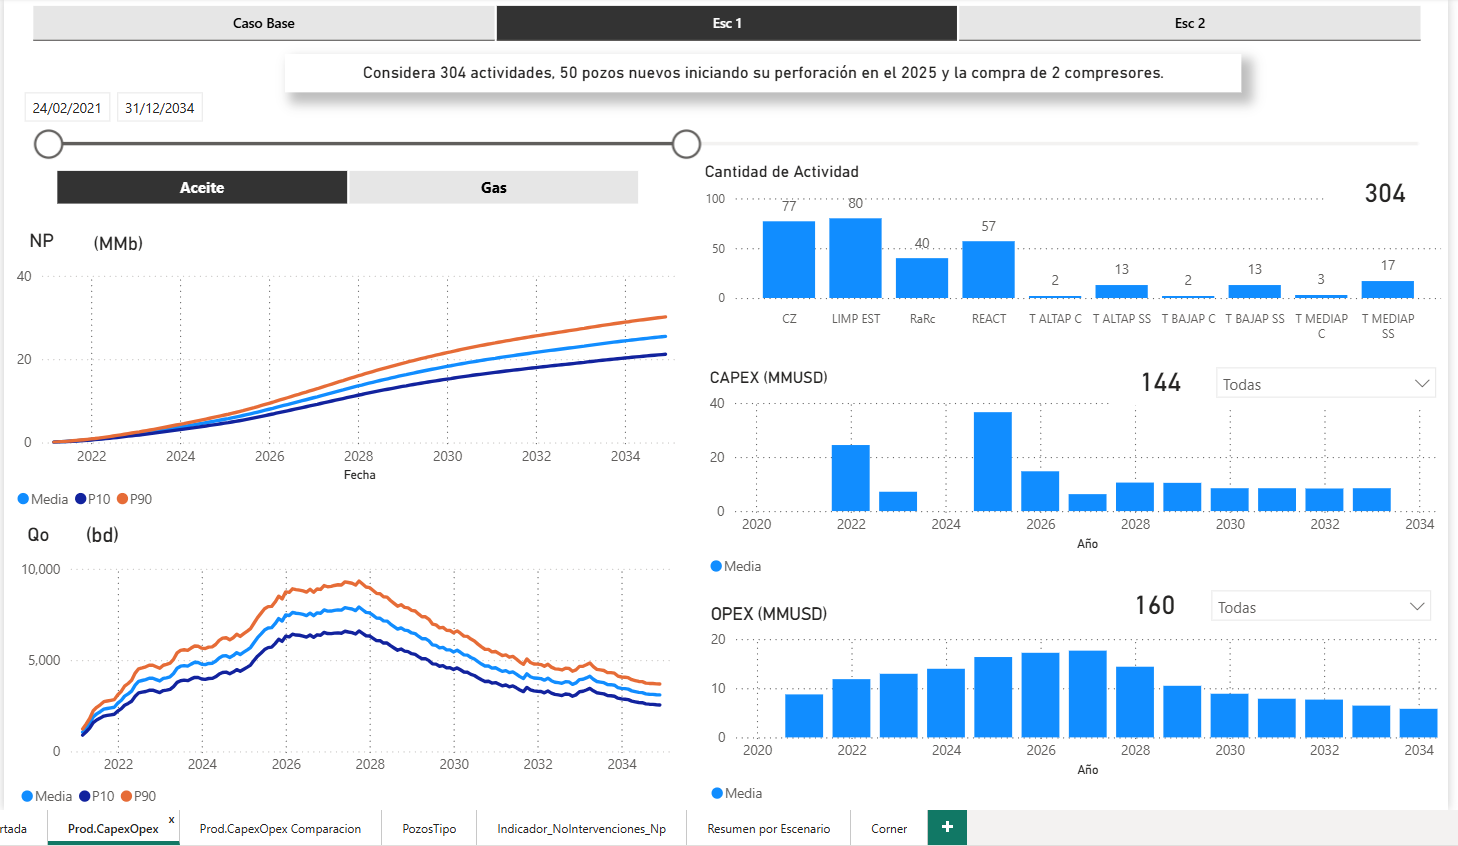

This screenshot's page, from the dashboard's own definition file:
{"tool":"powerbi","page":{"name":"Prod.CapexOpex","canvas":[1280,720],"ordinal":1},"visuals":[{"type":"clusteredColumnChart","title":"Cantidad de Actividad","fields":{"Category":["Pozos.Pozo Tipo"],"Series":["Pozos.Característica"],"Y":["Sum(Pozos.Valor)"]},"box":[616.6,145.8,663.4,167.4],"z":0},{"type":"clusteredColumnChart","title":"OPEX (MMUSD)","fields":{"Category":["PBI MPP.Año.Variación.Jerarquía de fechas.Año"],"Series":["PBI MPP.Categoría"],"Y":["Sum(PBI MPP.Diario)"]},"box":[621.3,536.7,655.8,186.5],"z":1000},{"type":"clusteredColumnChart","title":"CAPEX (MMUSD)","fields":{"Category":["PBI MPP.Año.Variación.Jerarquía de fechas.Año"],"Series":["PBI MPP.Categoría"],"Y":["Sum(PBI MPP.Diario)"]},"box":[620.7,327.9,657.2,194.5],"z":2000},{"type":"lineChart","fields":{"Category":["PBI MPP.Año.Variación.Jerarquía de fechas.Año"],"Y":["Sum(PBI MPP.Acumulado)"],"Series":["PBI MPP.Categoría"]},"box":[6.5,232.5,598.4,229.6],"z":3000},{"type":"slicer","fields":{"Values":["PBI MPP.Concepto 2"]},"box":[21.5,146.4,565.4,43],"z":4000},{"type":"lineChart","fields":{"Category":["PBI MPP.Año.Variación.Jerarquía de fechas.Año"],"Series":["PBI MPP.Categoría"],"Y":["Sum(PBI MPP.Diario)"]},"box":[10,492.2,589.8,233.9],"z":5000},{"type":"card","fields":{"Values":["Min(PBI MPP.Unidad)"]},"box":[61,200.9,80.4,33],"z":6000},{"type":"card","fields":{"Values":["Min(PBI MPP.Unidad)"]},"box":[51.7,457.6,71.4,38.2],"z":7000},{"type":"card","fields":{"Values":["Min(PBI MPP. Variable)"]},"box":[6.5,199.4,54.2,32],"z":8000},{"type":"card","fields":{"Values":["Min(PBI MPP. Variable)"]},"box":[9.8,457.6,41.8,36.9],"z":9000},{"type":"slicer","fields":{"Values":["DescEscenarios.Escenario"]},"box":[0,0,1280,45.4],"z":10000},{"type":"slicer","fields":{"Values":["PBI MPP. Variable"]},"box":[1065.2,317.8,215.2,45.9],"z":11000},{"type":"slicer","fields":{"Values":["PBI MPP. Variable"]},"box":[1060.4,515.2,215.2,47.4],"z":12000},{"type":"slicer","fields":{"Values":["PBI MPP.Año"]},"box":[5.7,73.2,1271.4,73.2],"z":13000},{"type":"card","fields":{"Values":["Sum(Pozos.Valor)"]},"box":[1172.4,146.4,104.8,51.7],"z":14000},{"type":"card","fields":{"Values":["Sum(PBI MPP.Diario)"]},"box":[980.5,317.8,89,44.5],"z":15000},{"type":"card","fields":{"Values":["Sum(PBI MPP.Diario)"]},"box":[980.1,515.2,80.4,44.5],"z":16000},{"type":"card","fields":{"Values":["Min(DescEscenarios.Descripcion)"]},"box":[249.1,49.8,848.2,34.4],"z":17000}]}

Visuals, with their boxes on the page's 1280x720 design canvas (x1, y1, x2, y2). These are canvas units, not pixel positions in the 1458x846 screenshot, which may show the page scaled, cropped or inside an application window:
"Cantidad de Actividad" clusteredColumnChart: {"left": 617, "top": 146, "right": 1280, "bottom": 313}
"OPEX (MMUSD)" clusteredColumnChart: {"left": 621, "top": 537, "right": 1277, "bottom": 723}
"CAPEX (MMUSD)" clusteredColumnChart: {"left": 621, "top": 328, "right": 1278, "bottom": 522}
lineChart - PBI MPP.Año.Variación.Jerarquía de fechas.Año x Sum(PBI MPP.Acumulado): {"left": 6, "top": 232, "right": 605, "bottom": 462}
slicer - PBI MPP.Concepto 2: {"left": 22, "top": 146, "right": 587, "bottom": 189}
lineChart - PBI MPP.Año.Variación.Jerarquía de fechas.Año x PBI MPP.Categoría: {"left": 10, "top": 492, "right": 600, "bottom": 726}
card - Min(PBI MPP.Unidad): {"left": 61, "top": 201, "right": 141, "bottom": 234}
card - Min(PBI MPP.Unidad): {"left": 52, "top": 458, "right": 123, "bottom": 496}
card - Min(PBI MPP. Variable): {"left": 6, "top": 199, "right": 61, "bottom": 231}
card - Min(PBI MPP. Variable): {"left": 10, "top": 458, "right": 52, "bottom": 494}
slicer - DescEscenarios.Escenario: {"left": 0, "top": 0, "right": 1280, "bottom": 45}
slicer - PBI MPP. Variable: {"left": 1065, "top": 318, "right": 1280, "bottom": 364}
slicer - PBI MPP. Variable: {"left": 1060, "top": 515, "right": 1276, "bottom": 563}
slicer - PBI MPP.Año: {"left": 6, "top": 73, "right": 1277, "bottom": 146}
card - Sum(Pozos.Valor): {"left": 1172, "top": 146, "right": 1277, "bottom": 198}
card - Sum(PBI MPP.Diario): {"left": 980, "top": 318, "right": 1070, "bottom": 362}
card - Sum(PBI MPP.Diario): {"left": 980, "top": 515, "right": 1060, "bottom": 560}
card - Min(DescEscenarios.Descripcion): {"left": 249, "top": 50, "right": 1097, "bottom": 84}
